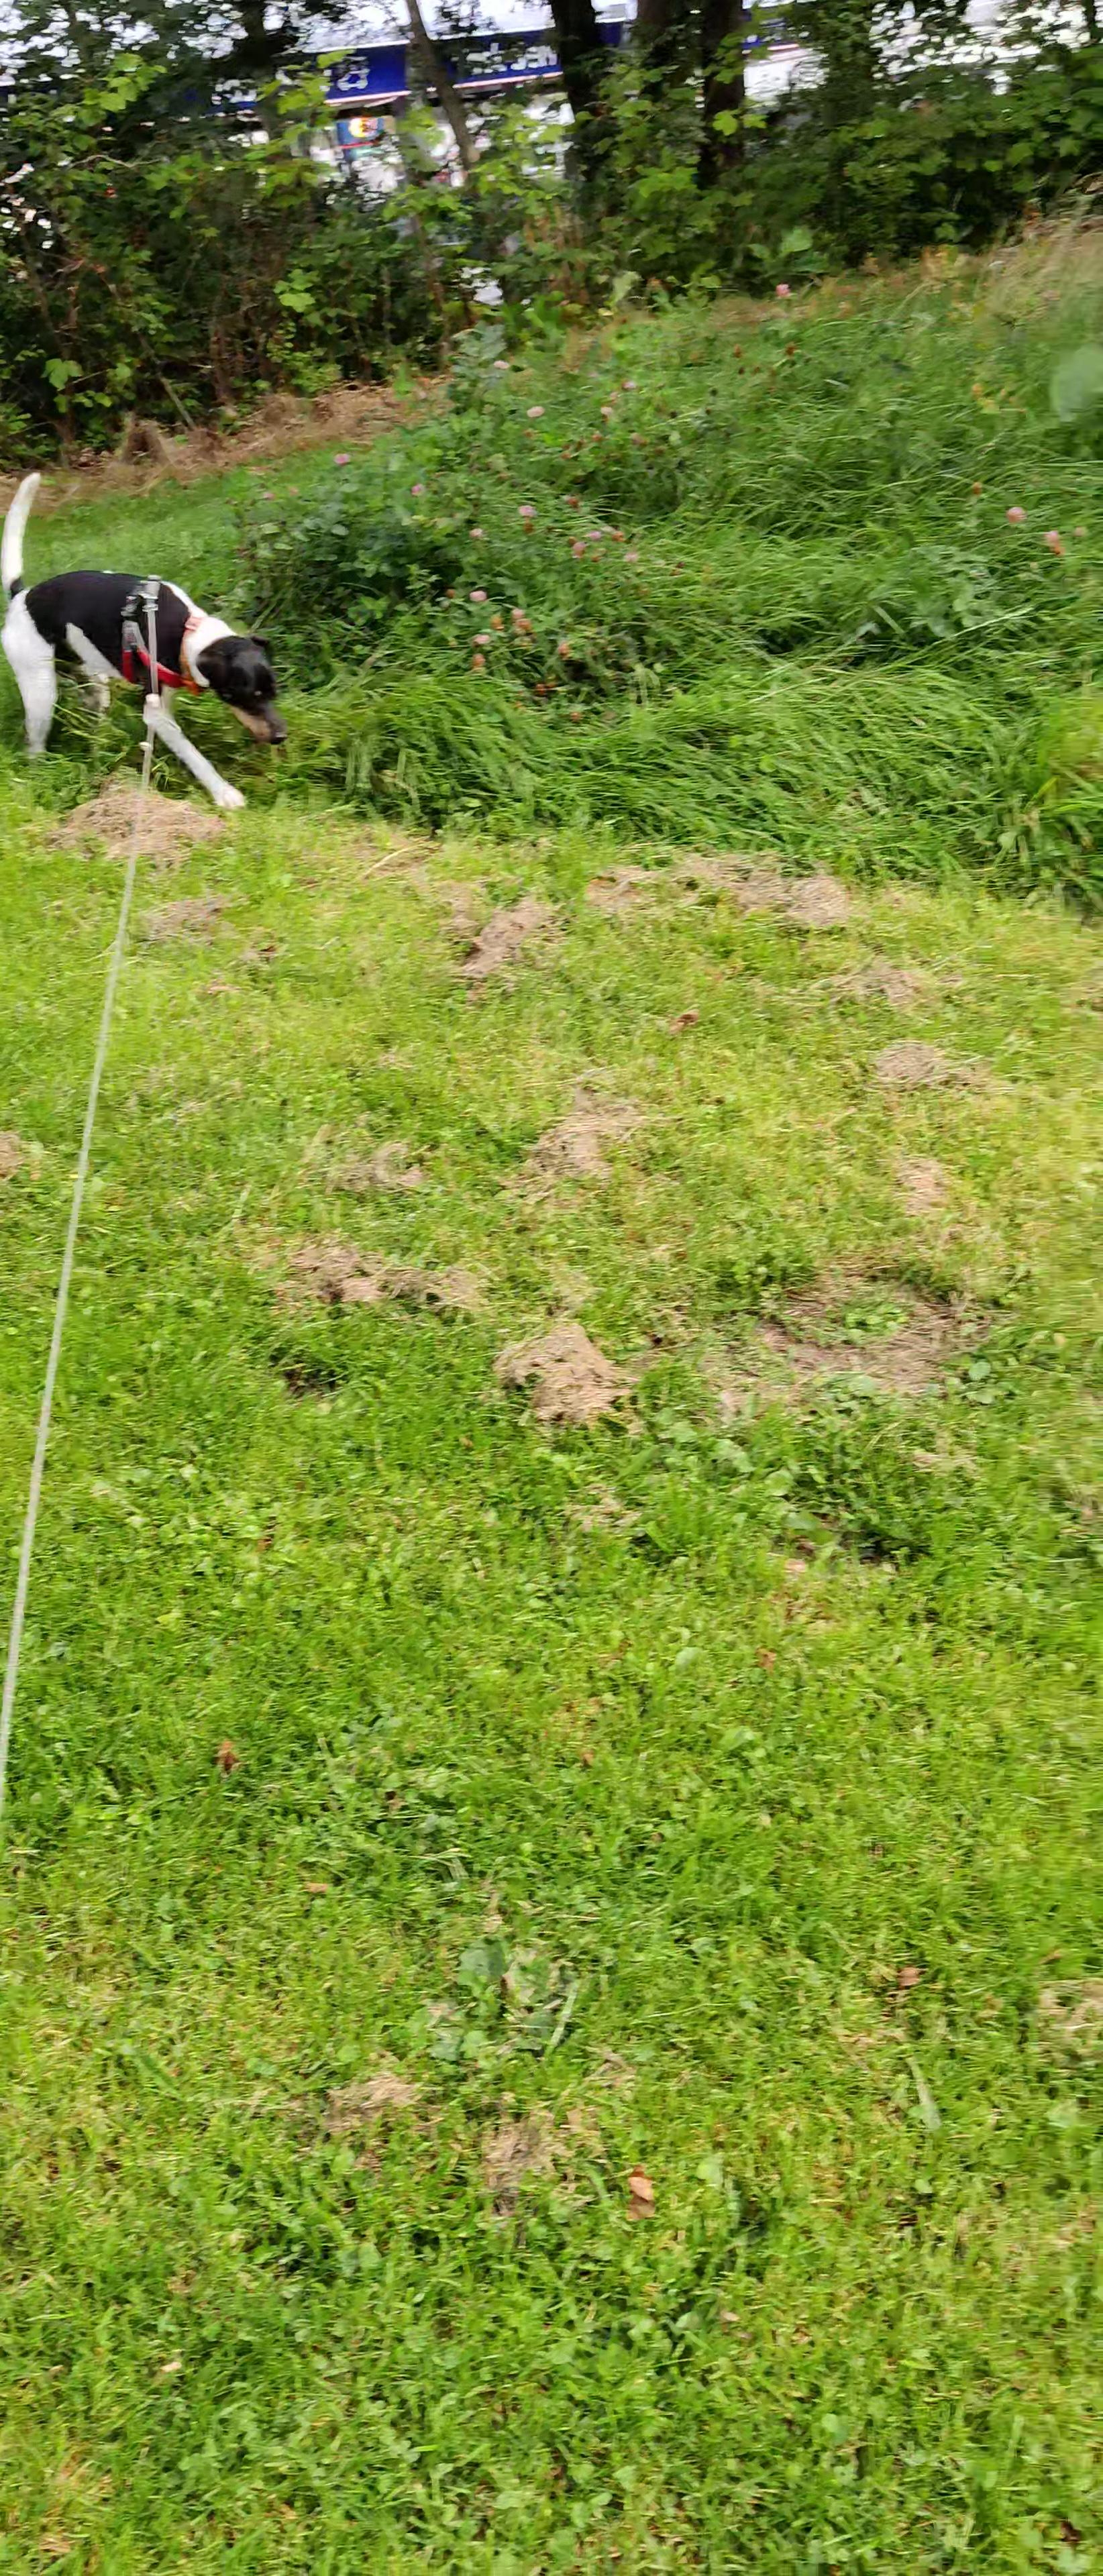Dog: (0, 470, 296, 812)
